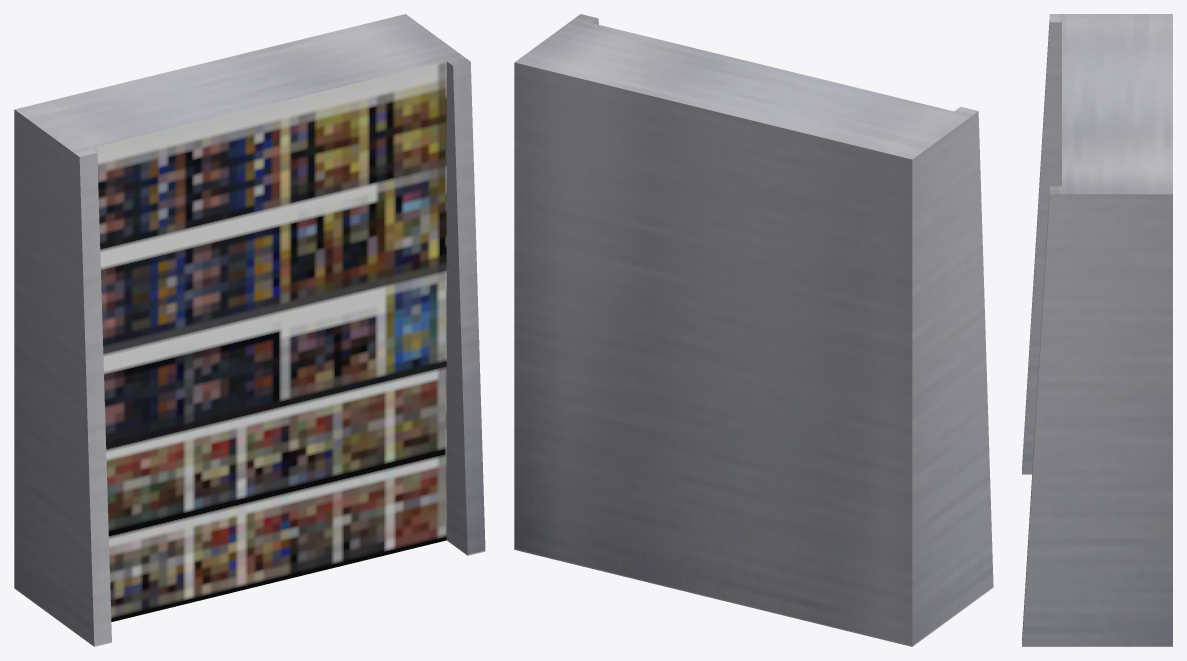
File: Estante_Variado_002.fbx
The picture shows the model from 3 angles, left to right: view 1: azimuth 30°, elevation 25°; view 2: azimuth 150°, elevation 25°; view 3: azimuth 270°, elevation 25°; orthographic projection. The views are drawn at different scales.
Visible parts, largest first — view 1: Estante_Variado_002; view 2: Estante_Variado_002; view 3: Estante_Variado_002.
Boxes of the visible parts, box(x1,y1,x2,y2) form: Estante_Variado_002: box(14, 14, 485, 646); Estante_Variado_002: box(514, 14, 993, 646); Estante_Variado_002: box(1022, 14, 1172, 646).
Size of the model in its own units: 154 by 180 by 54.36.
Materials: 1 (1 with a texture image).
